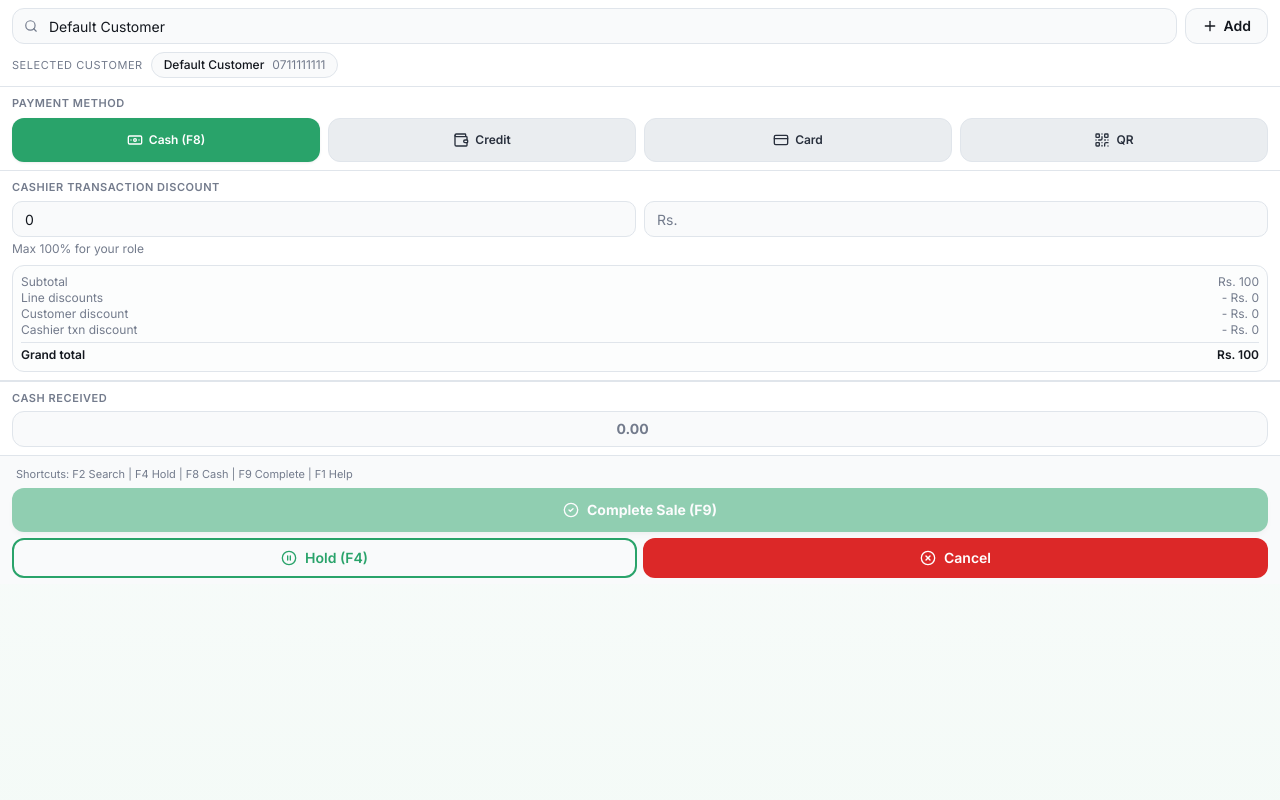
it: CheckoutPanel shortcut integration › opens cash workflow dialog through imperative shortcut action
Expected: the text "0711111111" is shown, left=272, top=57, right=326, bottom=73
Click the button "Card".
click(798, 140)  # box left=644, top=118, right=952, bottom=162
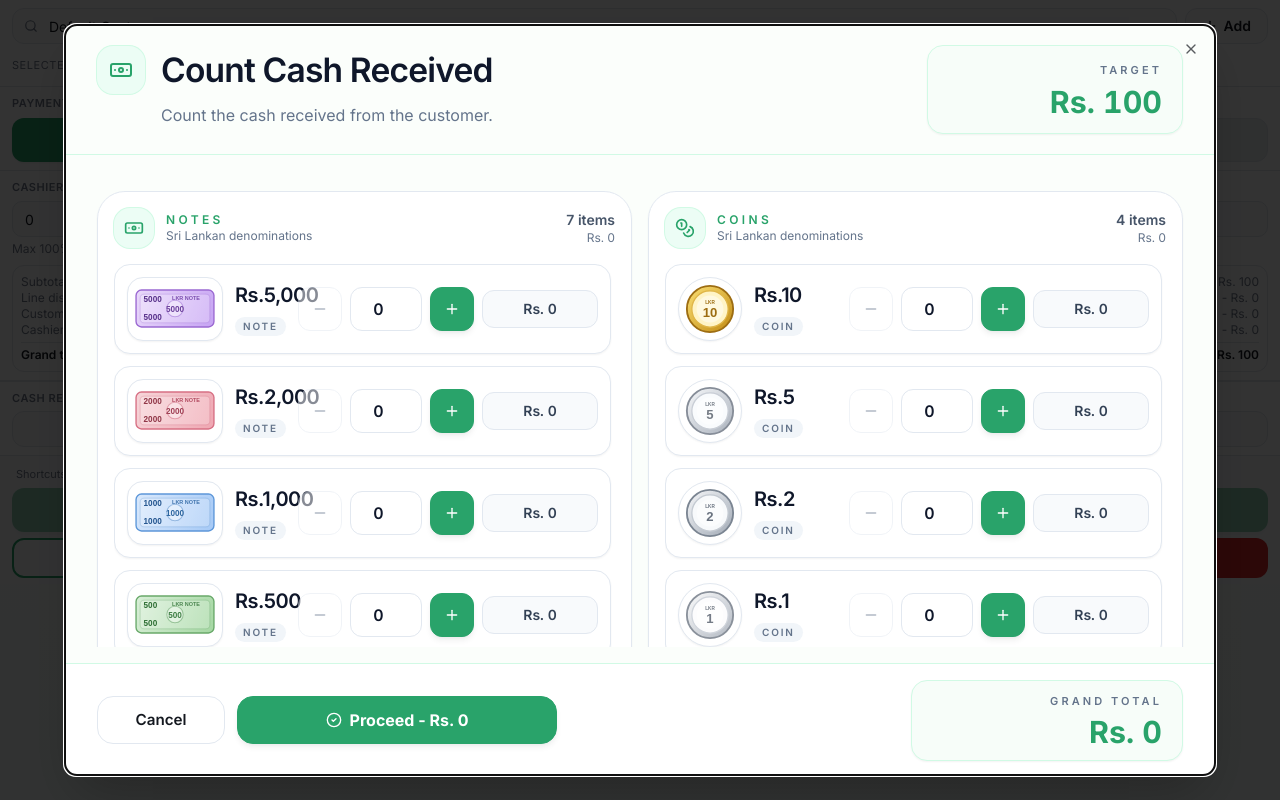
Expected: the heading "Count Cash Received" is shown, left=97, top=45, right=493, bottom=95
